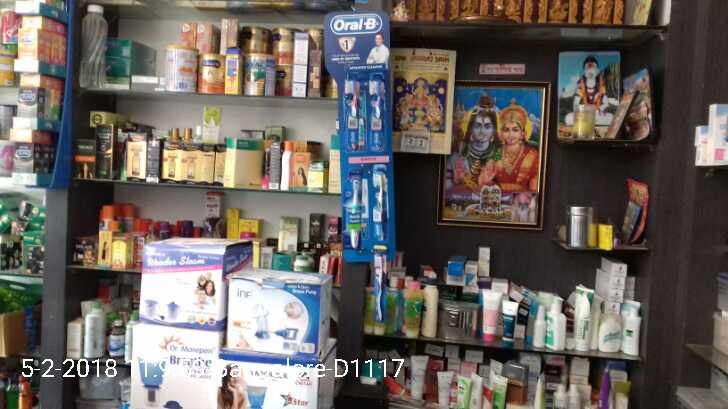oralb: (368, 72, 392, 157), (343, 168, 366, 246), (342, 80, 365, 150), (369, 171, 392, 241)
